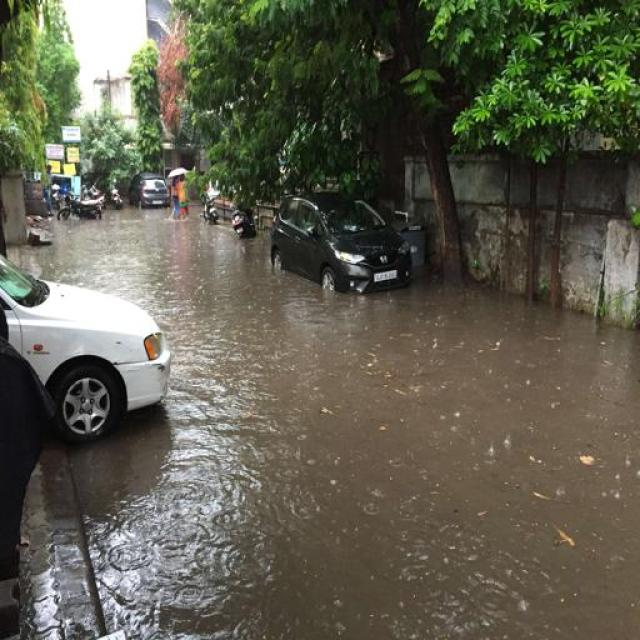puddle: (53, 451, 640, 640), (190, 302, 640, 477), (71, 218, 262, 320)
